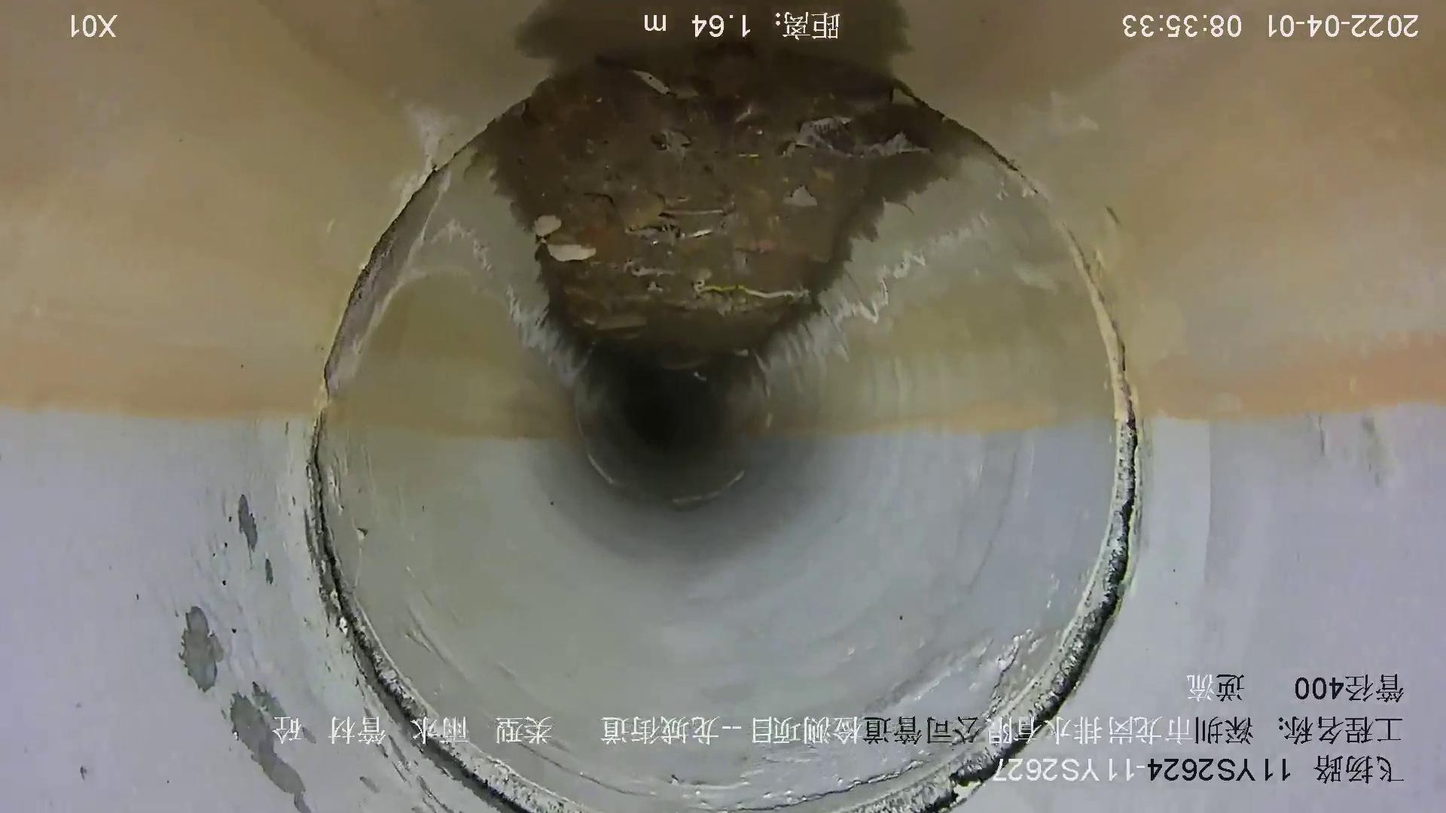CJ: (487, 42, 932, 382)
CKTJ: (296, 104, 1158, 813), (680, 254, 694, 263)
